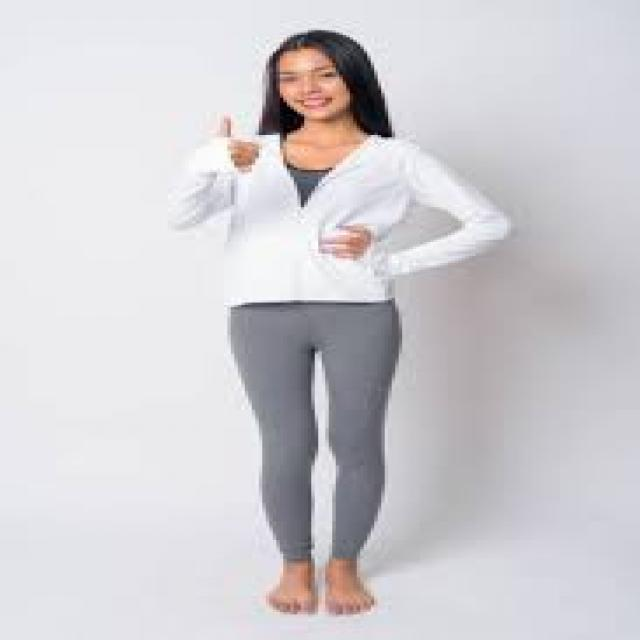No_BreathingApparatus: (269, 57, 352, 116)
No_Glove: (216, 125, 268, 176), (320, 223, 384, 264)
No_Goggles: (276, 62, 343, 84)
No_Harness: (210, 131, 428, 307)
No_Helmet: (256, 24, 370, 68)
No_Shoe: (325, 556, 382, 617), (262, 558, 318, 618)
Person: (128, 36, 533, 631)
